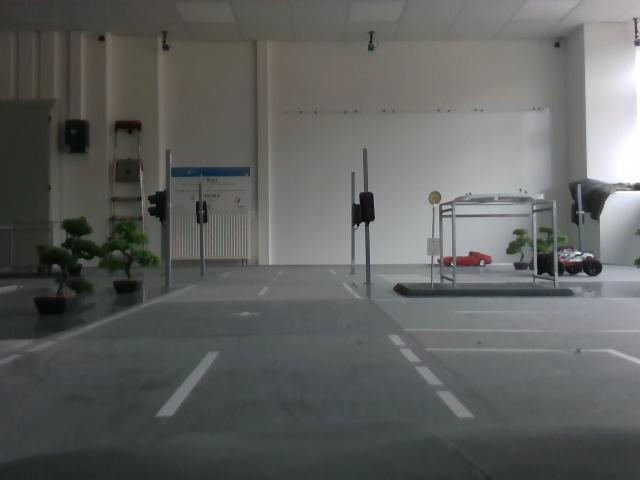car: (540, 247, 602, 280), (445, 248, 500, 270)
potted plant: (34, 230, 85, 321), (107, 218, 153, 301), (513, 225, 530, 270)
traffic light: (146, 188, 173, 225), (361, 188, 381, 229)
